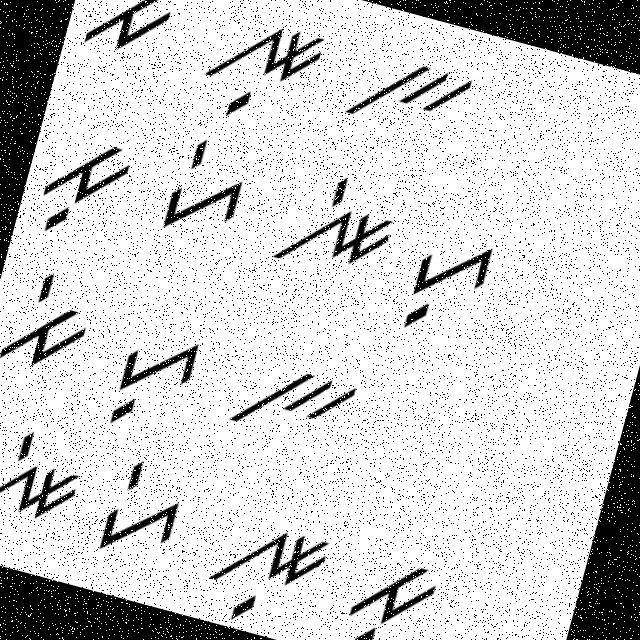he: (74, 451, 194, 576), (146, 130, 260, 252)
hu: (94, 314, 211, 449), (386, 221, 508, 348)
mbe: (0, 254, 103, 388), (74, 0, 188, 67)
mbu: (30, 120, 140, 252), (330, 537, 451, 639)
nde: (260, 156, 407, 295), (0, 406, 94, 546)
ndu: (190, 1, 332, 136), (196, 506, 335, 640)
